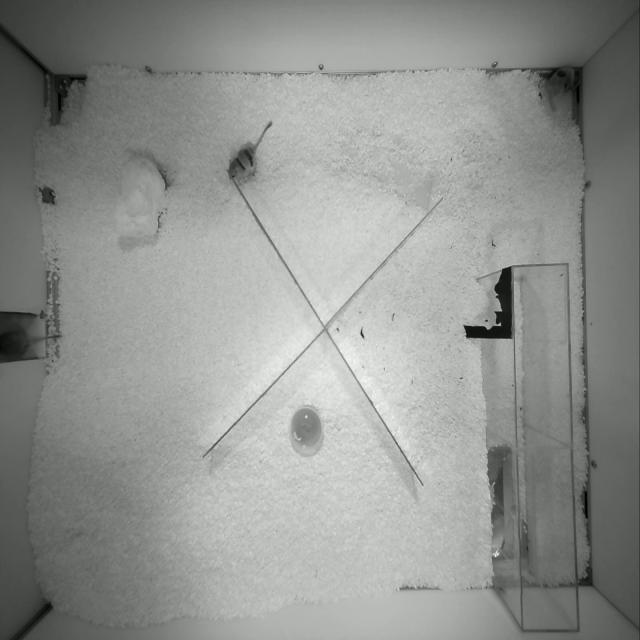pup_fluffy: (0, 329, 60, 361)
pup_h_stripe: (228, 121, 272, 182)
pup_spotted: (539, 67, 577, 110)
